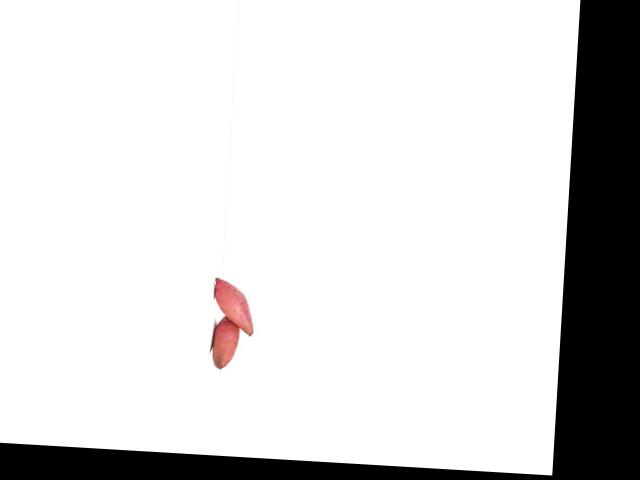sweet_potato: (210, 310, 244, 372)
